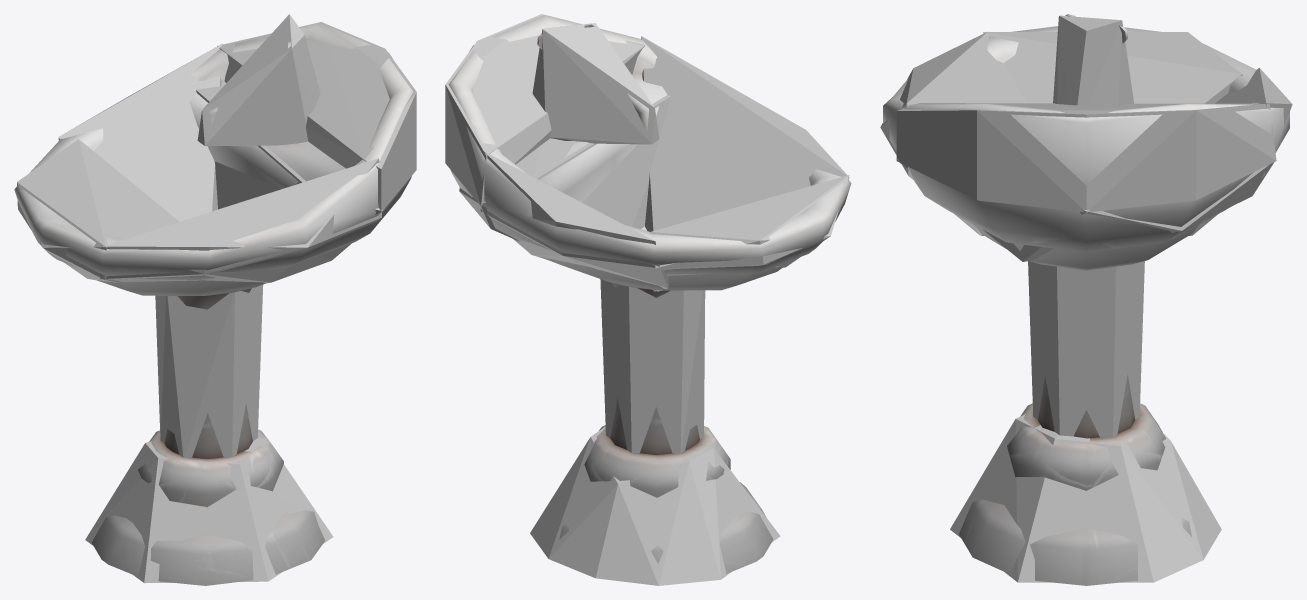
The model's file is SM_BathSink01.fbx.
The picture shows the model from 3 angles, left to right: view 1: azimuth 30°, elevation 25°; view 2: azimuth 150°, elevation 25°; view 3: azimuth 270°, elevation 25°; orthographic projection. The views are drawn at different scales.
Parts seen in each view (by area): view 1: SM_BathSink01_ConvexHulls, SM_BathSink01; view 2: SM_BathSink01_ConvexHulls, SM_BathSink01; view 3: SM_BathSink01_ConvexHulls, SM_BathSink01.
Part boxes in pixels (x1,y1,x2,y2): SM_BathSink01_ConvexHulls: (17, 14, 416, 583); SM_BathSink01: (14, 22, 413, 585); SM_BathSink01_ConvexHulls: (445, 14, 849, 585); SM_BathSink01: (448, 15, 851, 573); SM_BathSink01_ConvexHulls: (880, 15, 1292, 582); SM_BathSink01: (883, 14, 1289, 585).
Bounding box in the file's own units: 85.32 × 74.87 × 113.
Materials: 2 (1 with a texture image).
